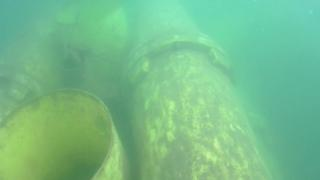pipe: (127, 1, 272, 179), (1, 87, 131, 180), (54, 1, 125, 107), (1, 16, 56, 123)
